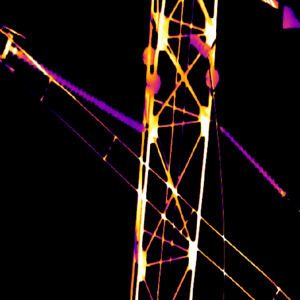insulator: (8, 43, 146, 133), (218, 125, 286, 198), (188, 31, 211, 58)
